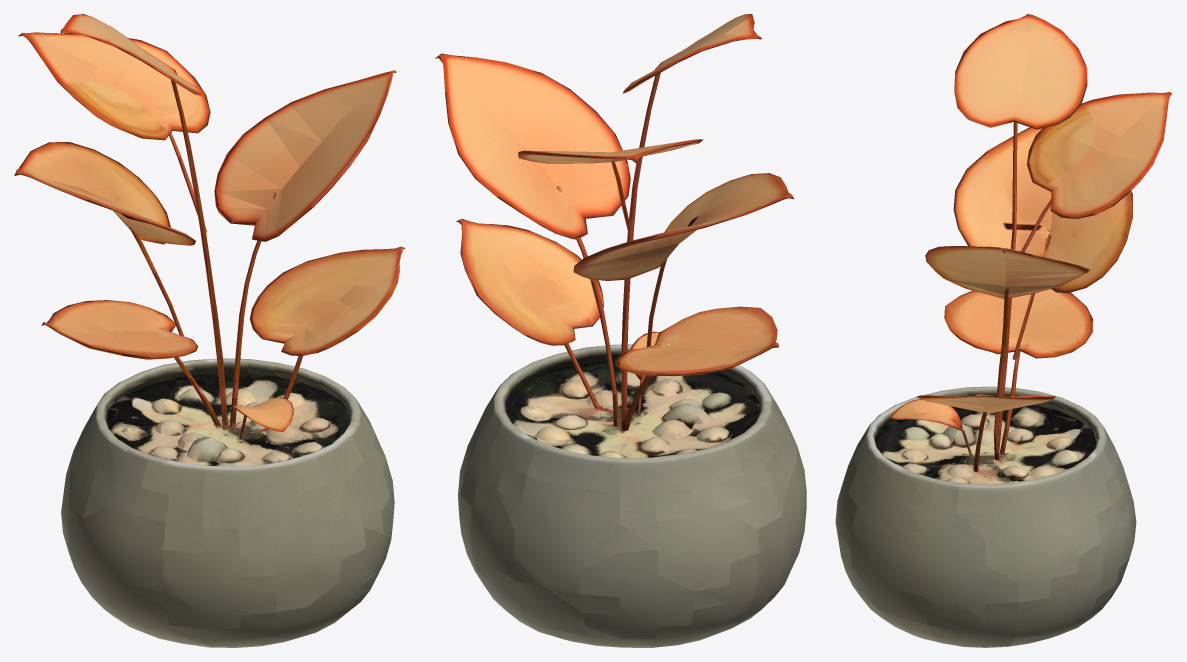
The picture shows the model from 3 angles, left to right: view 1: azimuth 30°, elevation 25°; view 2: azimuth 150°, elevation 25°; view 3: azimuth 270°, elevation 25°; orthographic projection. The views are drawn at different scales.
Size of the model in its own units: 0.6455 by 1 by 0.5768.
1 material, 1 textured.
